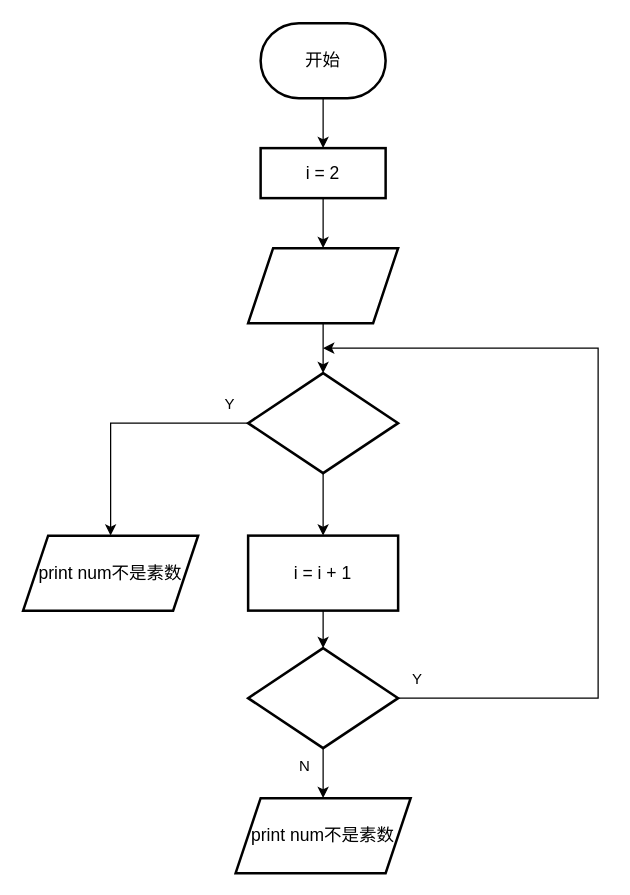
Some shapes in this 630 by 895 pixel diagram are drawn without their labels. The shapes that lost their labels are listed below. From the top down, each one's centre as x and y in pixels, then its label:
the point at 322,285: input num
the point at 322,422: num % i == 0
the point at 322,697: i < num
